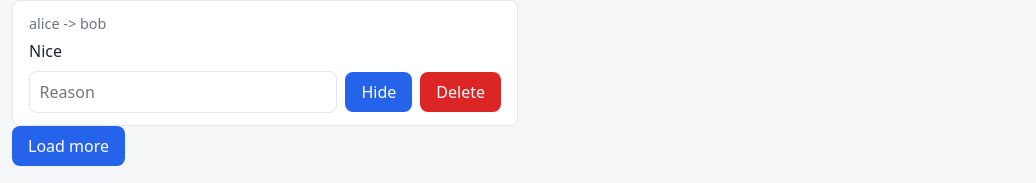
Test: ModerationList › loads more kudos when more pages remain
Click the button "Load more" at (68, 146), box 12,126 -> 125,166
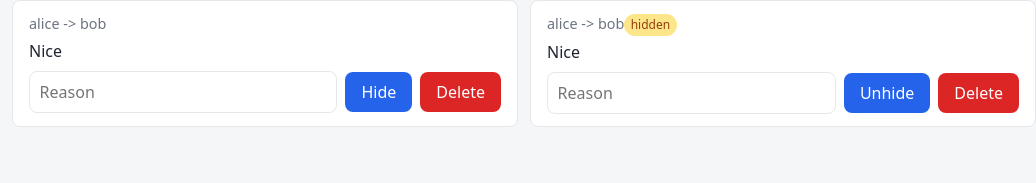
expect the text "hidden" is shown: met, box 624,14 -> 677,36
